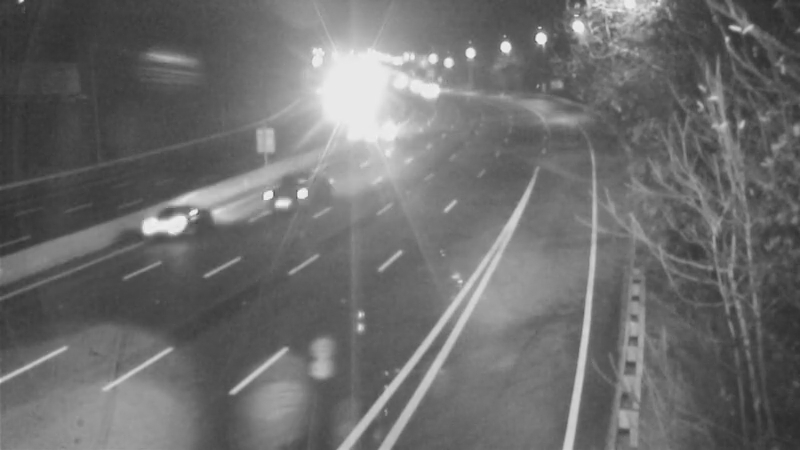vehicle: (256, 154, 336, 234), (118, 189, 198, 269), (406, 68, 456, 118), (373, 102, 423, 152)
